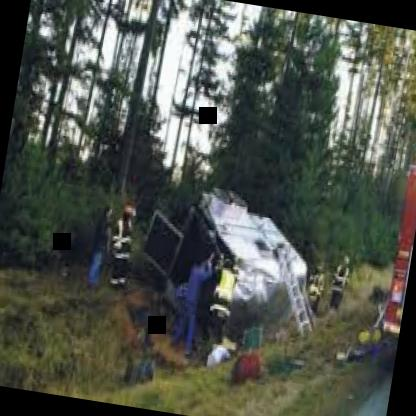accident: (123, 182, 325, 380)
